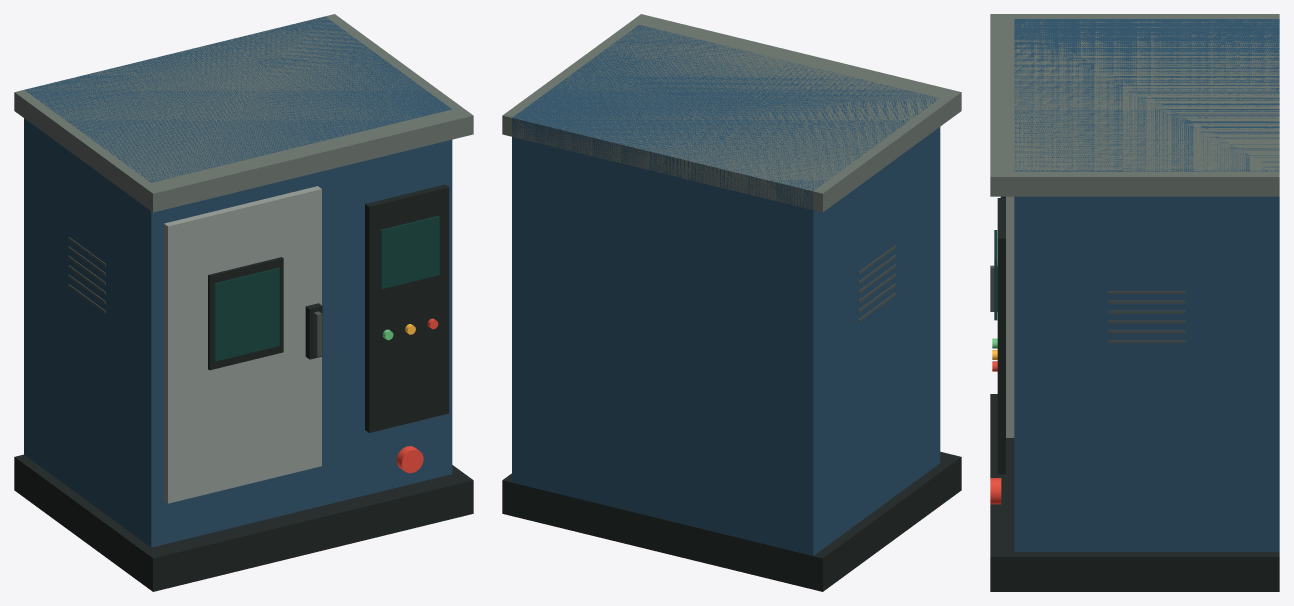
The model's file is MC-ENC-1600_1.60x1.90x1.20m.glb.
3 renders of one model, left to right at view 1: azimuth 30°, elevation 25°; view 2: azimuth 150°, elevation 25°; view 3: azimuth 270°, elevation 25°, orthographic. The views are drawn at different scales.
Visible parts, largest first — view 1: MachineBody, TopCover, ServiceDoor, MachineBase, ControlPanel, DoorWindow, PanelDisplay, DoorWindowFrame, DoorHandleMount; view 2: MachineBody, TopCover, MachineBase; view 3: MachineBody, TopCover, MachineBase, ControlPanel, ServiceDoor.
Boxes of the visible parts, x1,y1,x2,y2 form: MachineBody: (24,16,452,547); TopCover: (14,14,473,212); ServiceDoor: (164,186,321,503); MachineBase: (14,454,473,591); ControlPanel: (365,184,449,432); DoorWindow: (214,267,279,361); PanelDisplay: (380,216,439,288); DoorWindowFrame: (208,257,283,370); DoorHandleMount: (305,303,322,359); MachineBody: (512,25,940,555); TopCover: (502,14,961,212); MachineBase: (502,451,961,591); MachineBody: (1014,19,1279,551); TopCover: (990,14,1279,196); MachineBase: (990,394,1279,591); ControlPanel: (997,198,1005,474); ServiceDoor: (1006,196,1014,437).
Bounding box in the file's own units: 1.6 × 1.9 × 1.2.
